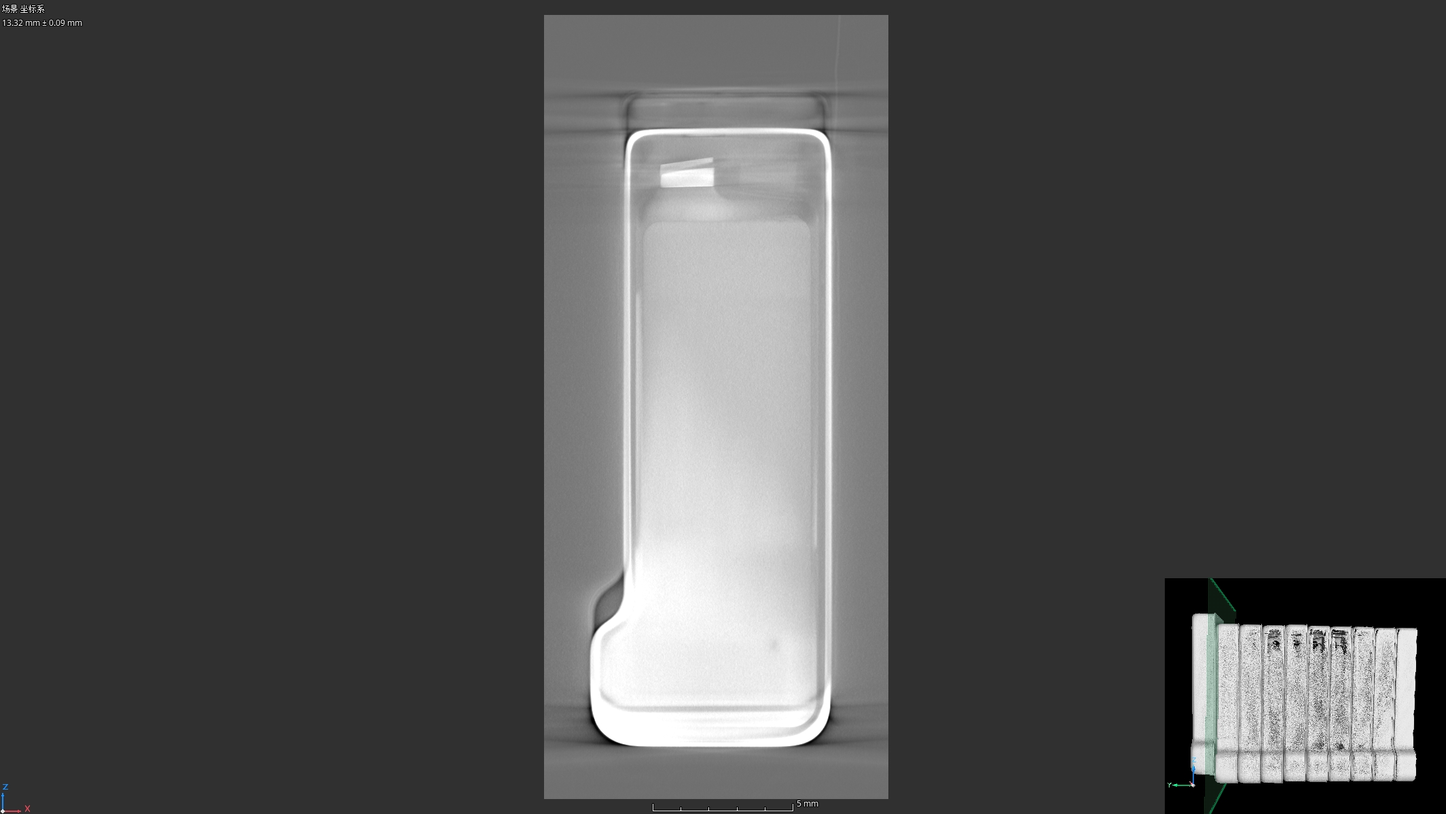dark: (767, 637, 784, 654)
